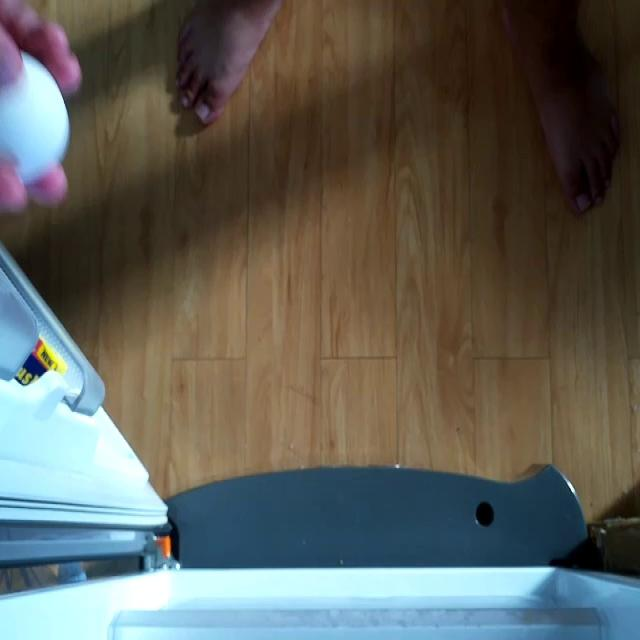egg: (0, 49, 72, 186)
